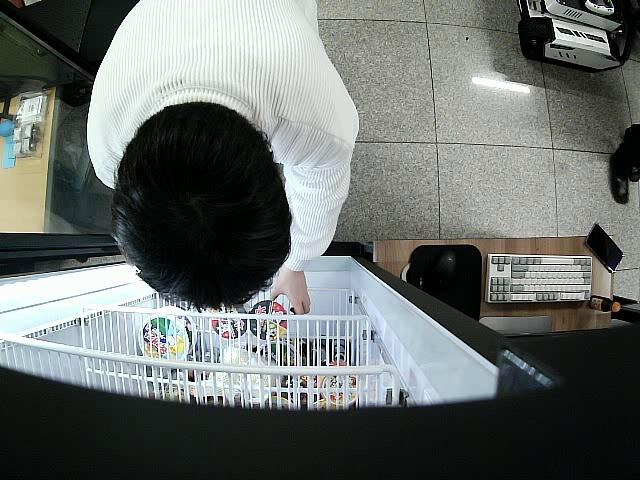00_hand: (270, 265, 310, 314)
08_buldak_S: (248, 301, 289, 341)
